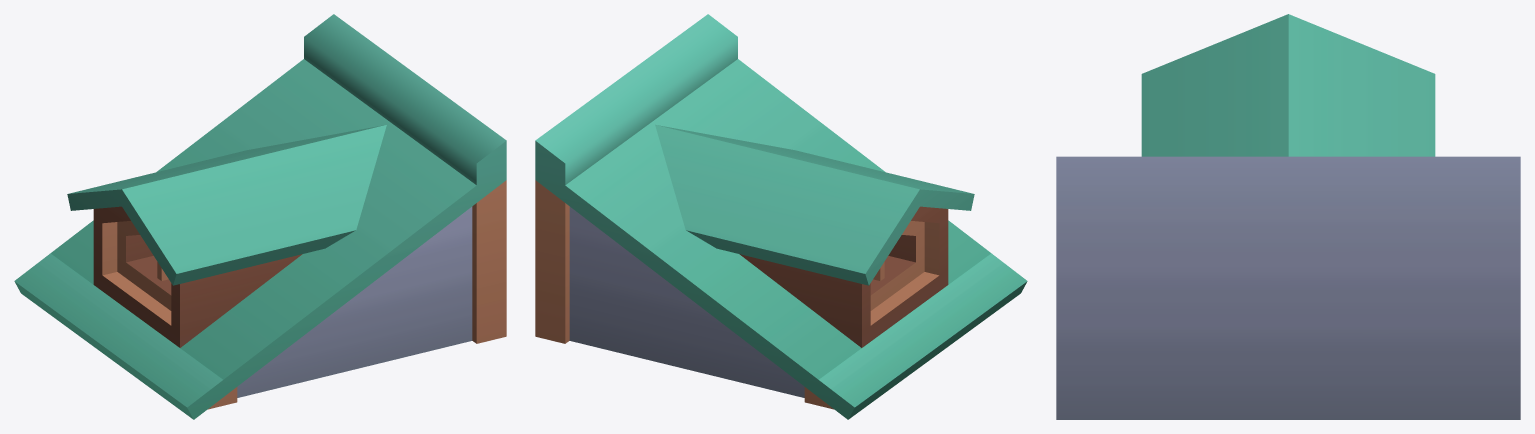
Rendered from roof-window.glb.
3 views of the same model, side by side, from view 1: azimuth 30°, elevation 25°; view 2: azimuth 150°, elevation 25°; view 3: azimuth 270°, elevation 25° (orthographic). The views are drawn at different scales.
Parts seen in each view (by area): view 1: roof-window; view 2: roof-window; view 3: roof-window.
Part boxes in pixels (box(x1,y1,x2,y2)): roof-window: box(14, 14, 506, 419); roof-window: box(535, 14, 1027, 419); roof-window: box(1056, 14, 1520, 419).
Bounding box in the file's own units: 1.07 × 0.6483 × 1.
Materials: 1 (1 with a texture image).
